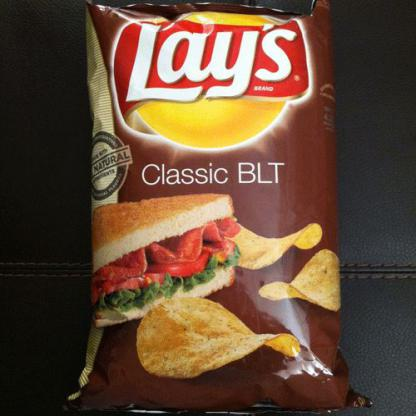potatochip: (55, 0, 387, 415)
